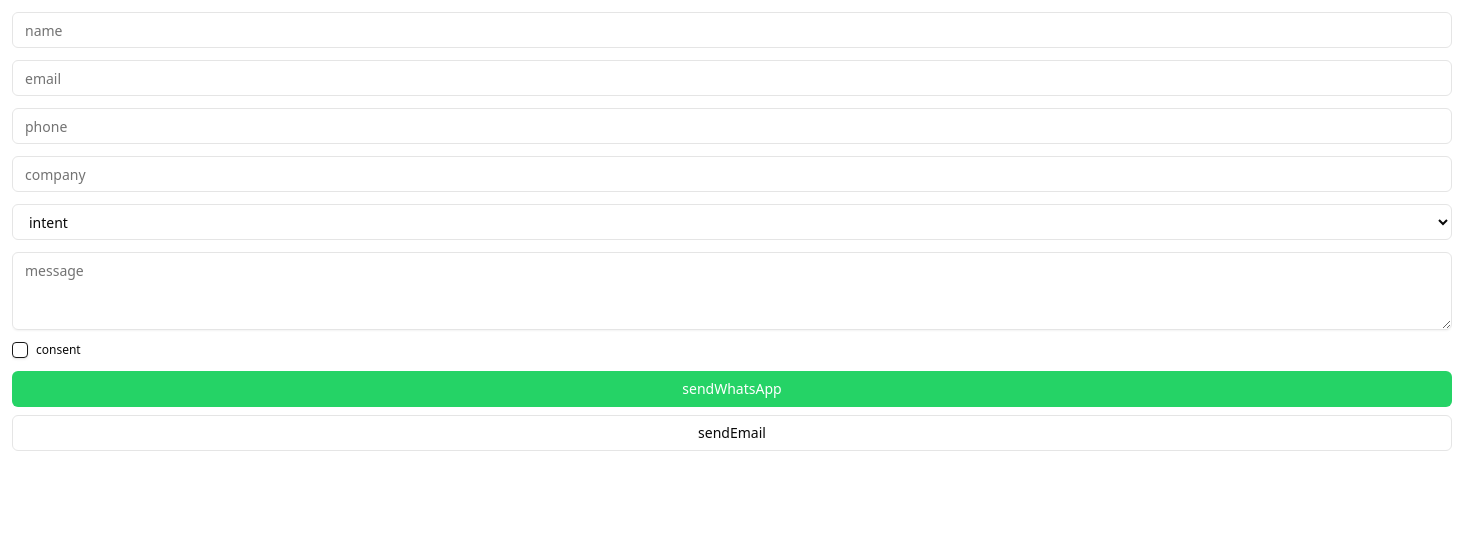
LeadForm › on server failure: aborts the pre-opened WhatsApp tab, shows the fallback and tracks nothing
The image size is (1464, 556).
Type "Ana" into the field with placeholder "name".
click(732, 30); type("Ana")  # box [12,12,1452,48]
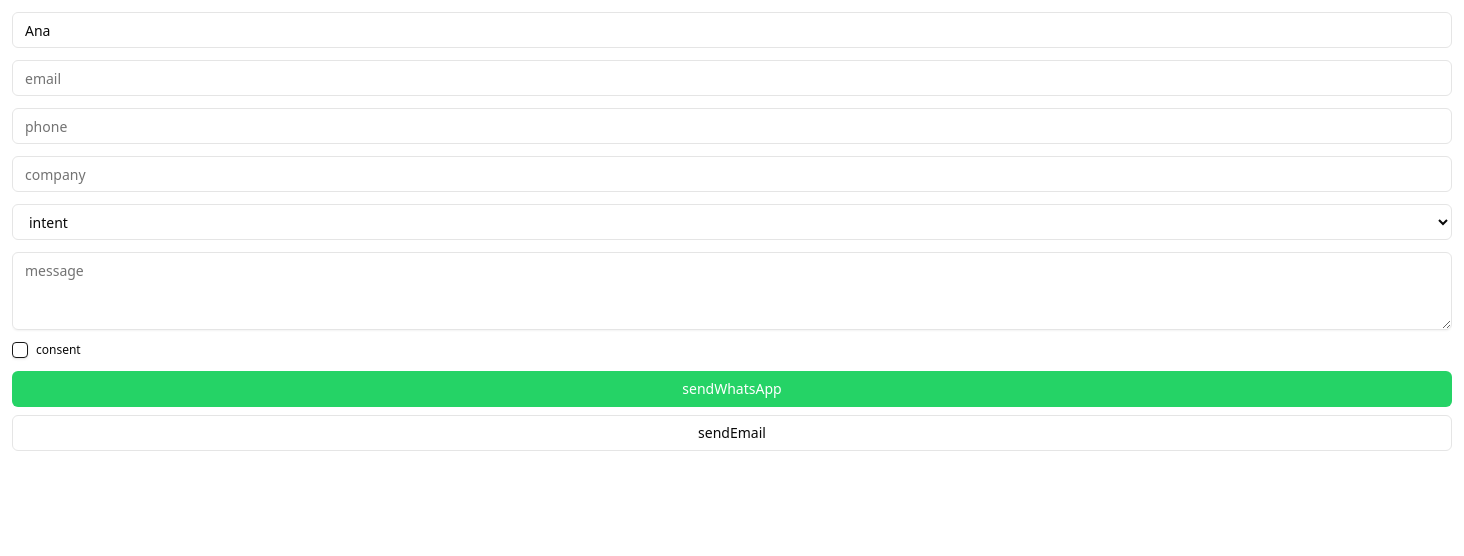
Type "ana@example.com" into the field with placeholder "email".
click(732, 78); type("ana@example.com")  # box [12,60,1452,96]
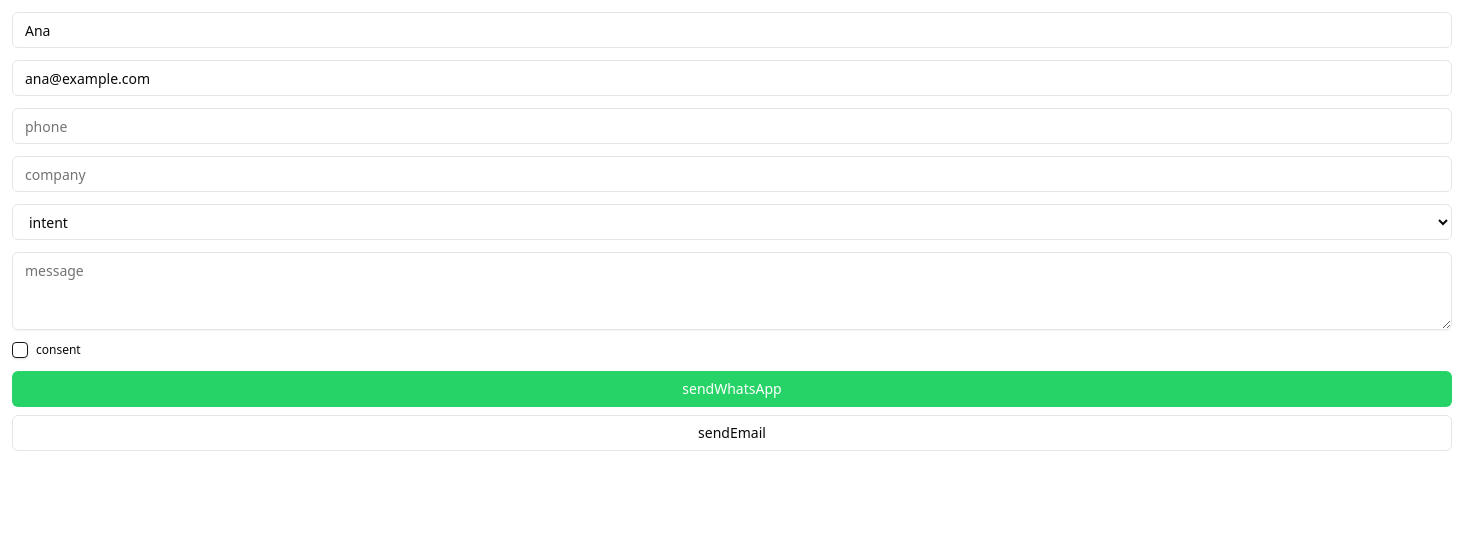
Click the checkbox.
click(20, 350)  # box [12,342,28,358]
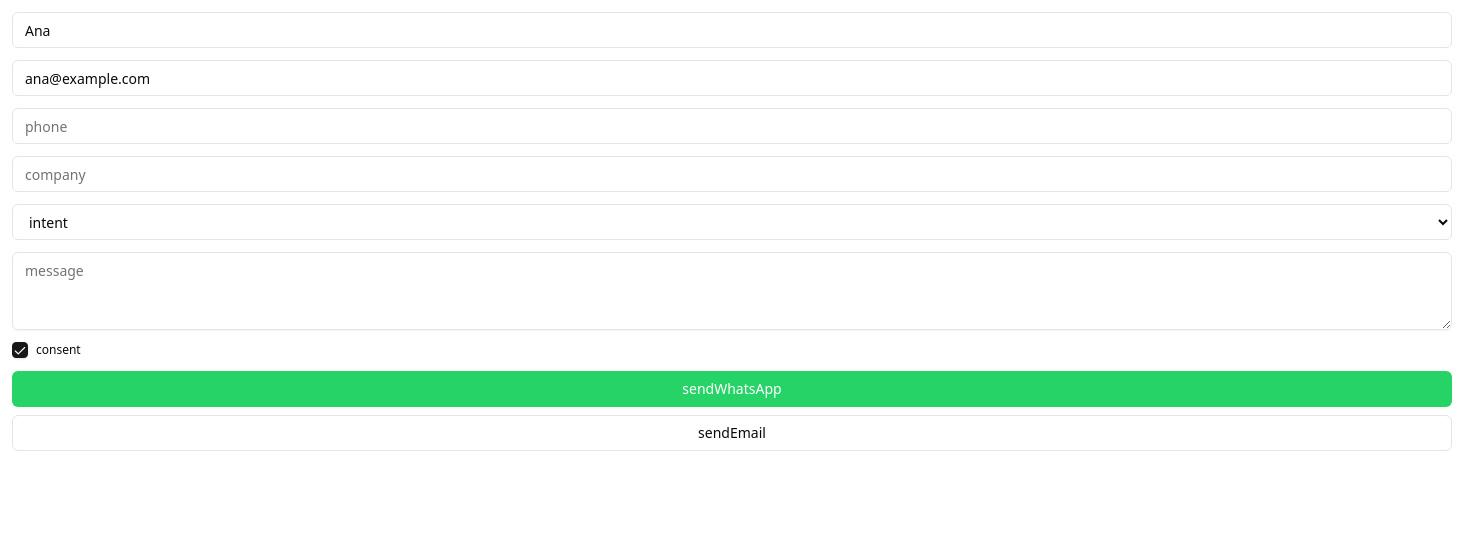
Click the button "sendWhatsApp".
click(732, 388)  # box [12,370,1452,406]
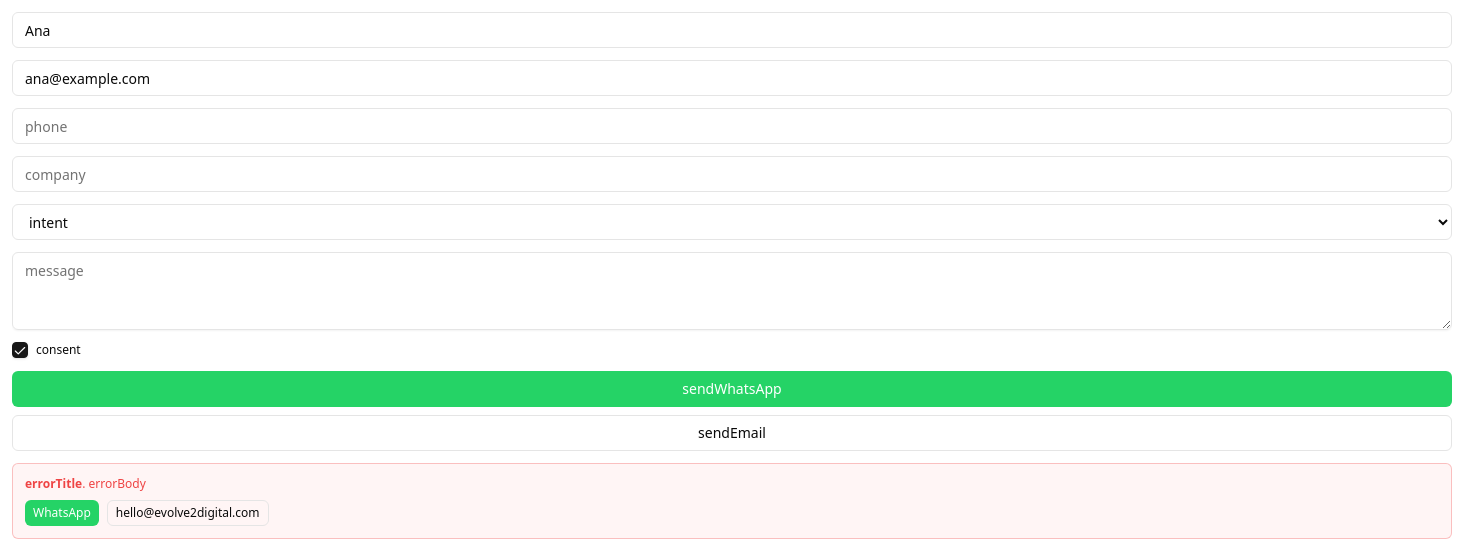
Now the text "errorTitle" is shown, box [25,474,82,492]
